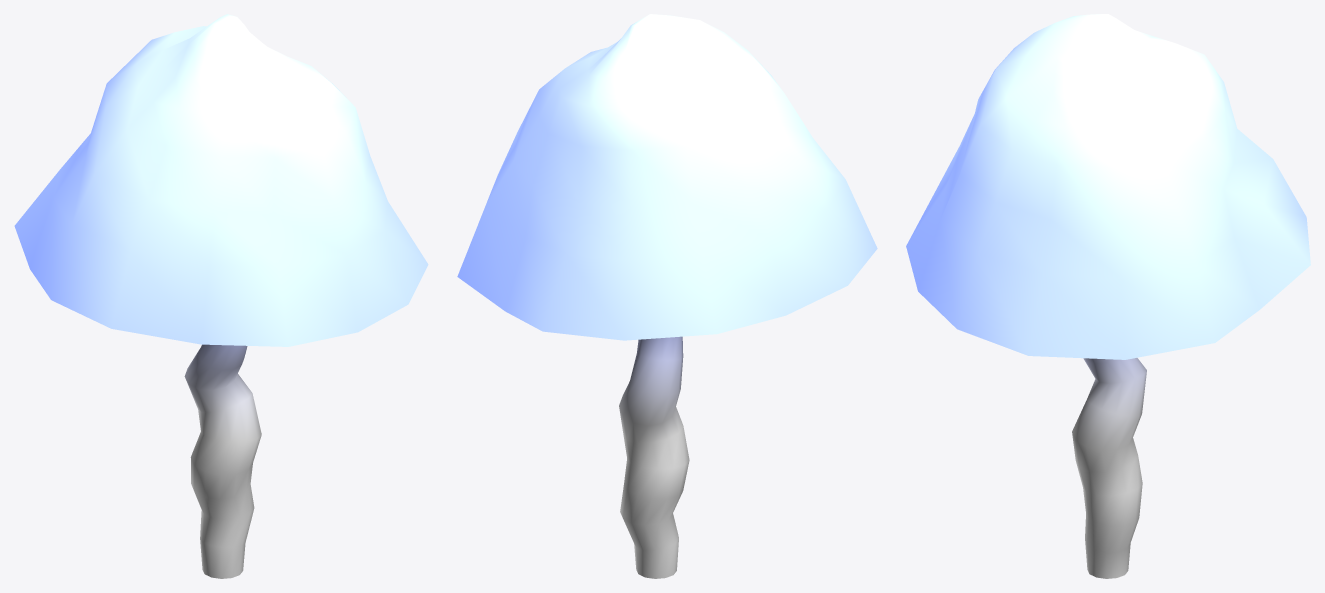
Rendered from mushroom_1.glb.
3 views of the same model, side by side, from view 1: azimuth 30°, elevation 25°; view 2: azimuth 150°, elevation 25°; view 3: azimuth 270°, elevation 25° (orthographic).
Visible parts, largest first — view 1: geo1; view 2: geo1; view 3: geo1.
Boxes of the visible parts, x1,y1,x2,y2 form: geo1: (14,14,428,578); geo1: (457,14,877,578); geo1: (906,14,1310,578).
Size of the model in its own units: 0.2068 by 0.3067 by 0.2028.
